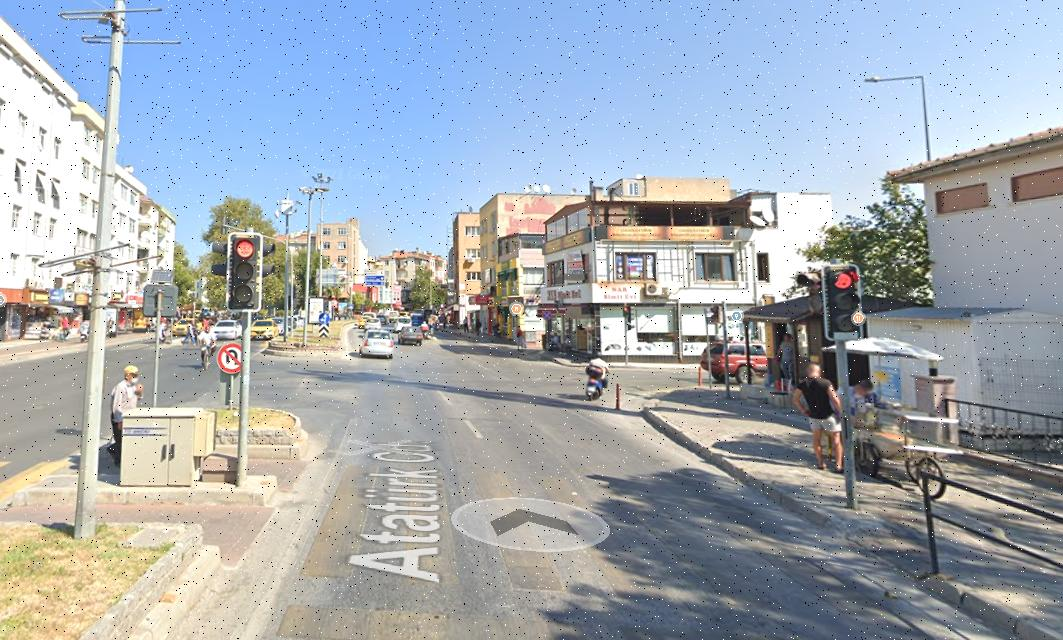redlight: (822, 266, 867, 343), (228, 231, 262, 311)
